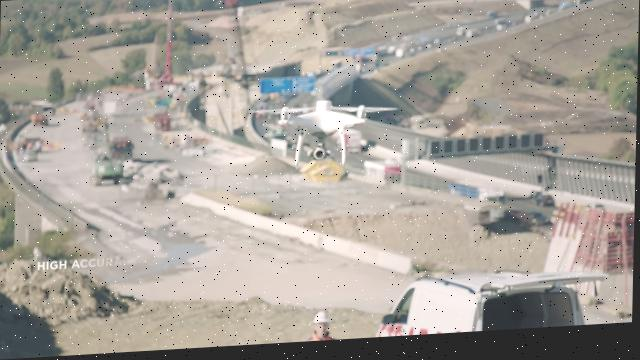drone: (253, 99, 398, 174)
